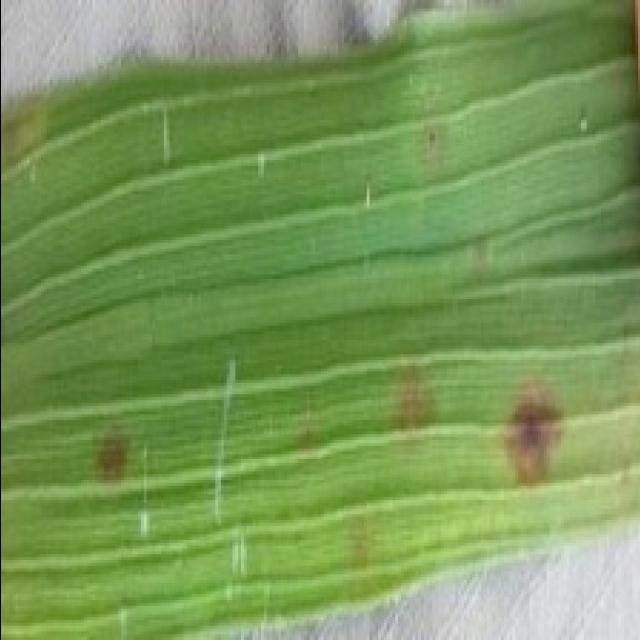Unhealthy: (500, 363, 571, 502), (382, 374, 437, 451), (87, 431, 131, 482), (420, 96, 448, 172), (291, 407, 325, 452)
